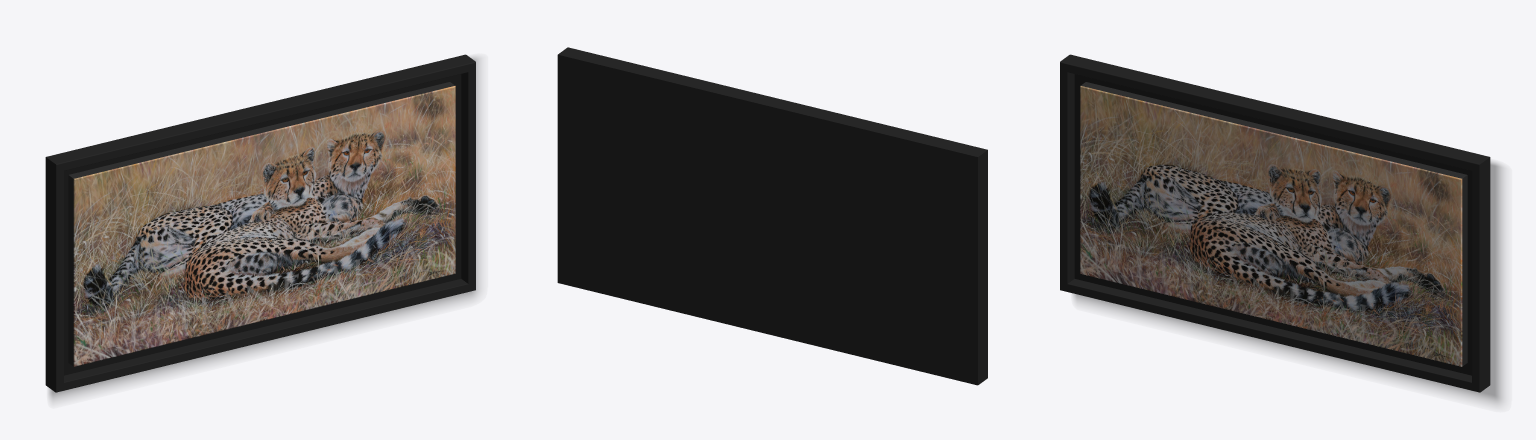
The model's file is tableau-toile-guepards-classique-d4f41860.glb.
The picture shows the model from 3 angles, left to right: view 1: azimuth 30°, elevation 25°; view 2: azimuth 150°, elevation 25°; view 3: azimuth 330°, elevation 25°; orthographic projection.
Visible parts, largest first — view 1: Painting; view 2: Painting; view 3: Painting.
Boxes of the visible parts, box(x1,y1,x2,y2) form: Painting: box(45, 54, 478, 400); Painting: box(557, 47, 987, 385); Painting: box(1060, 54, 1502, 403).
Bounding box in the file's own units: 1.08 × 0.626 × 0.04.
Materials: 5 (3 with a texture image).
